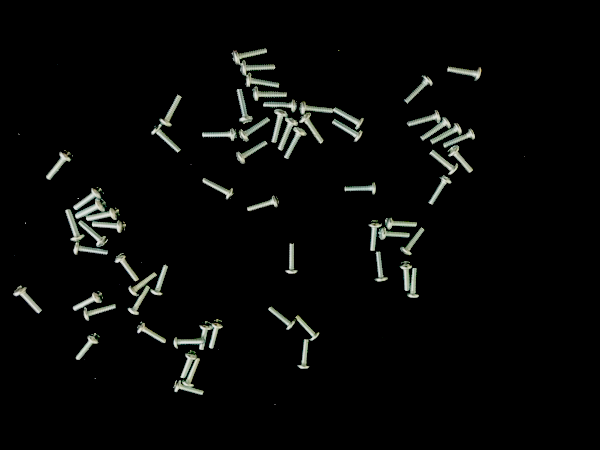shortscrew: (150, 123, 182, 154), (403, 74, 434, 105), (14, 283, 43, 314), (46, 149, 74, 180), (239, 116, 272, 142), (235, 140, 269, 165), (159, 93, 184, 127), (428, 174, 454, 206), (447, 145, 475, 174), (400, 226, 427, 256), (420, 116, 451, 142), (73, 185, 105, 210), (203, 177, 236, 201), (430, 121, 463, 145), (76, 331, 102, 361), (79, 222, 109, 248), (429, 150, 459, 176), (136, 320, 167, 345), (333, 119, 364, 144), (128, 271, 157, 297), (285, 126, 307, 160), (82, 300, 117, 321), (268, 306, 297, 331), (300, 114, 324, 144), (278, 117, 299, 151), (334, 107, 365, 130), (296, 315, 322, 342), (127, 287, 151, 316), (64, 208, 85, 241), (442, 128, 476, 148), (232, 47, 269, 65), (73, 290, 104, 311), (115, 253, 138, 281), (75, 199, 107, 219), (236, 89, 254, 124), (407, 109, 442, 127), (72, 239, 109, 256), (150, 264, 169, 297), (247, 195, 281, 213), (240, 60, 277, 76), (272, 109, 289, 143), (180, 348, 198, 380), (245, 72, 281, 88), (447, 65, 483, 81), (183, 358, 202, 388), (300, 100, 333, 117), (86, 205, 121, 221), (173, 379, 205, 396), (202, 126, 238, 141), (253, 86, 288, 101), (383, 216, 418, 231), (264, 98, 298, 113), (344, 180, 378, 195), (368, 218, 383, 252), (92, 220, 127, 234), (285, 244, 299, 276), (399, 260, 413, 292), (297, 338, 311, 369), (375, 251, 389, 282), (378, 227, 411, 240), (174, 335, 204, 349), (406, 267, 419, 299)
